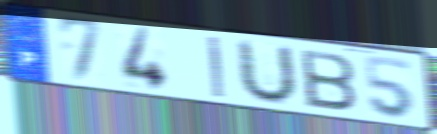4: (119, 25, 171, 94)
5: (363, 52, 418, 122)
7: (56, 15, 103, 87)
B: (297, 47, 359, 113)
I: (205, 34, 226, 101)
U: (237, 37, 299, 106)
